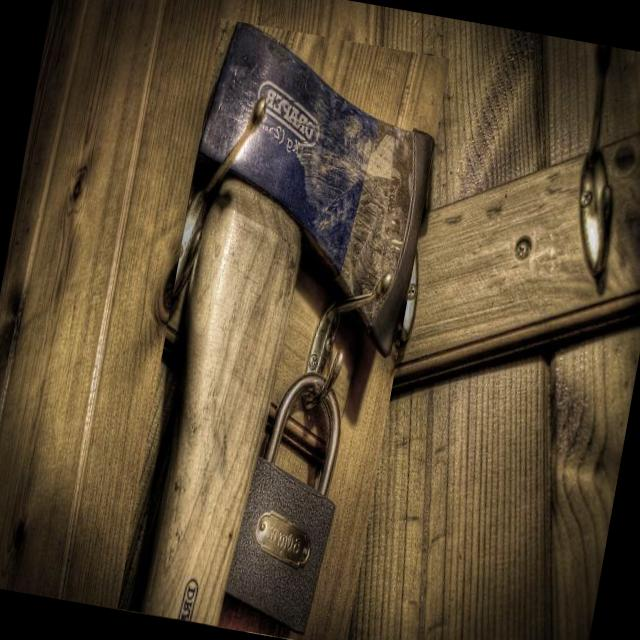Axe: (141, 22, 433, 626)
